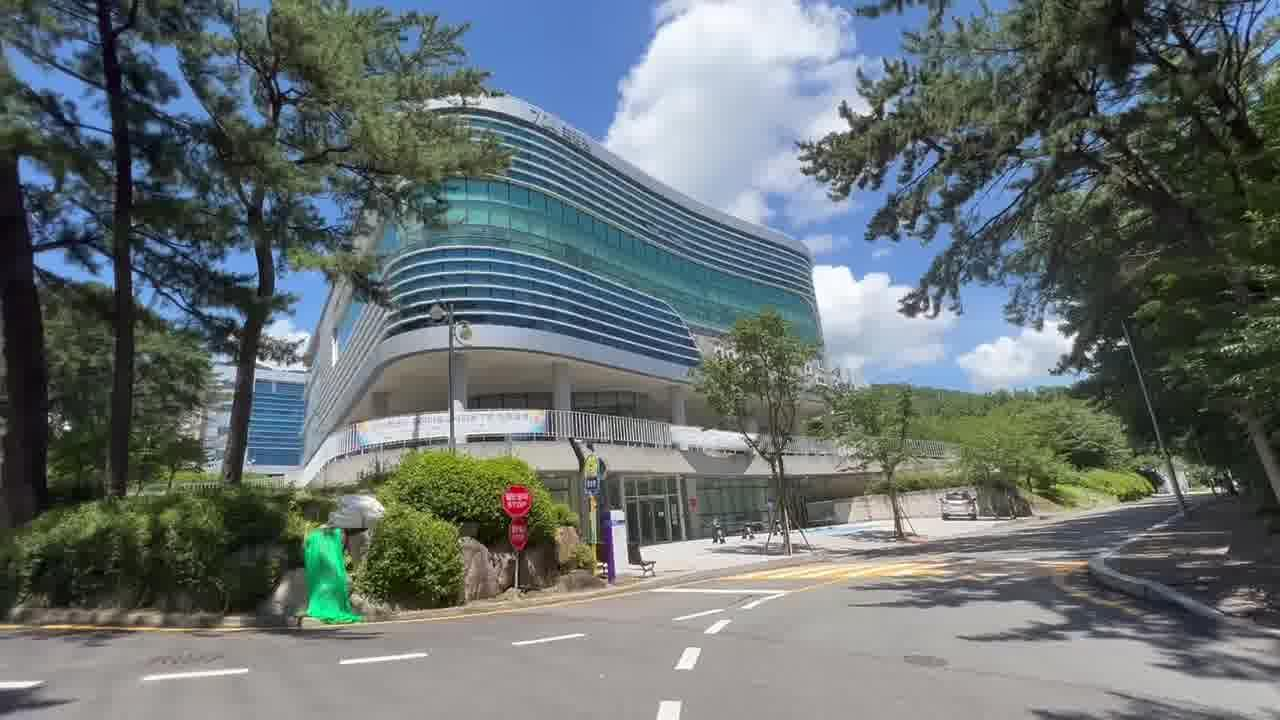building: (438, 92, 696, 468)
